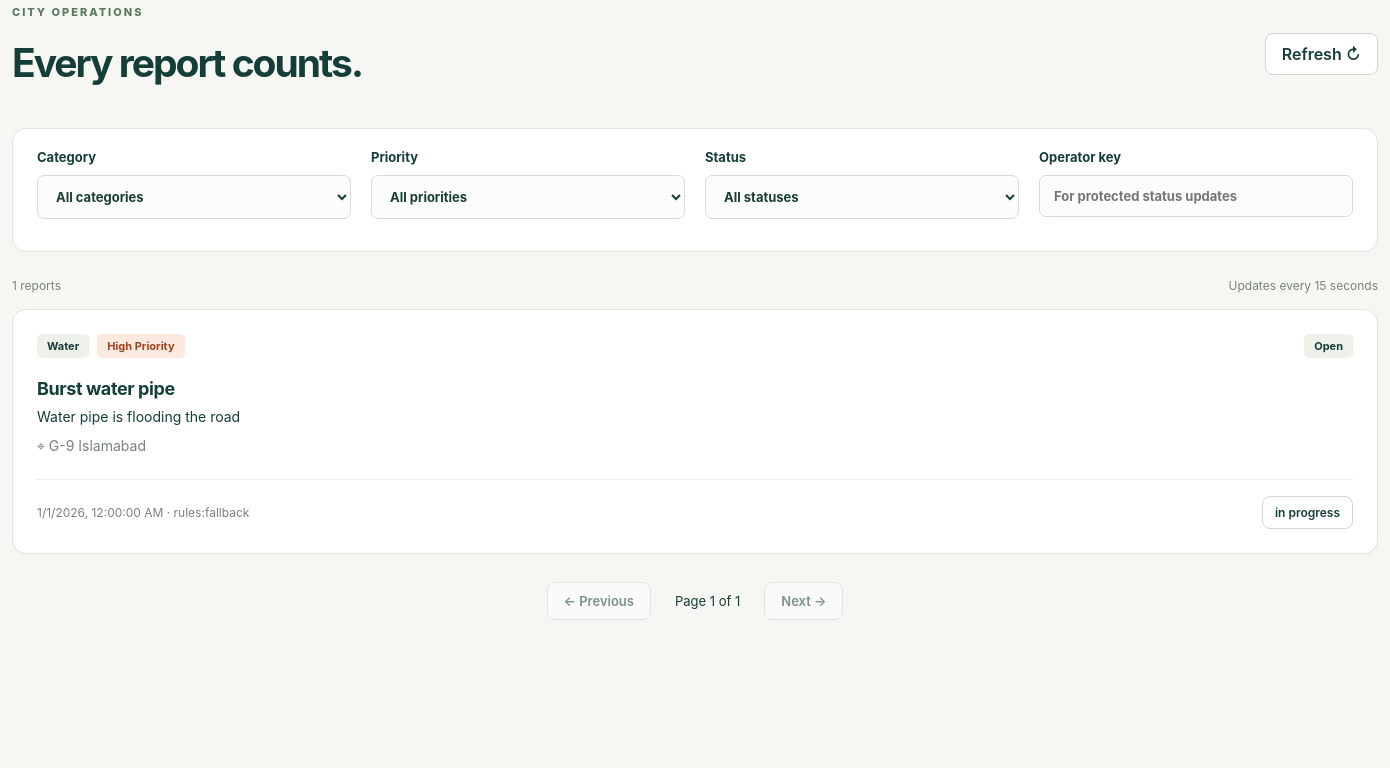
Test: renders only server-provided transitions and surfaces a 409 message
The width and height of the screenshot is (1390, 768).
Step 1. Click the button "in progress" → coordinates (1307, 513), box [1262,496,1353,529]
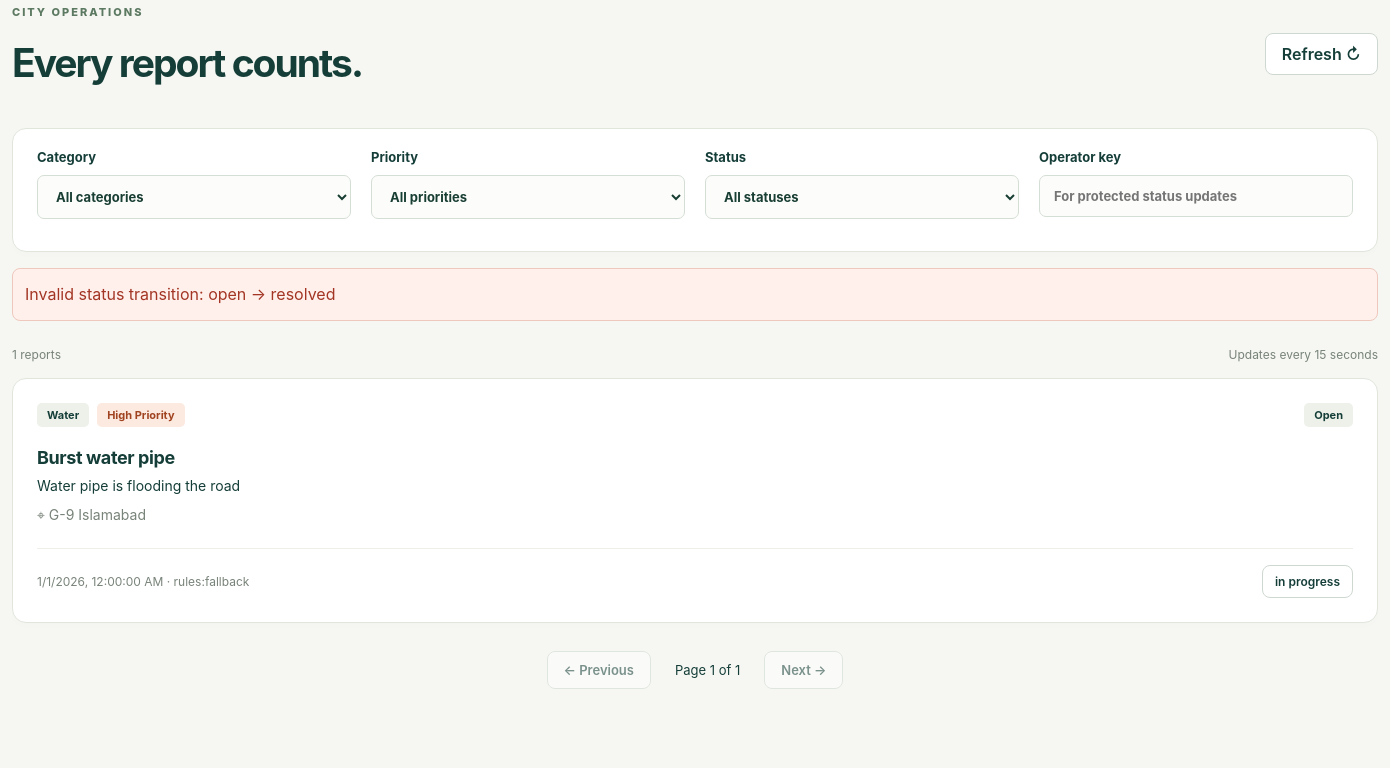
Now the message reads "Invalid status transition: open → resolved", box [25,284,336,304]
